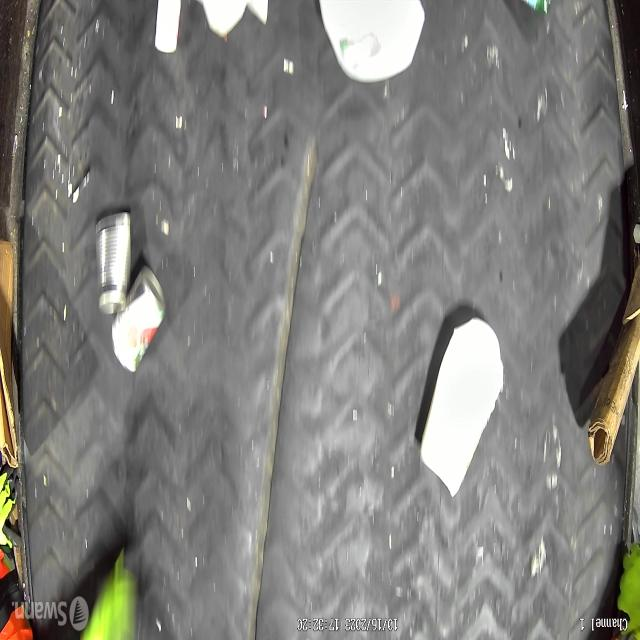can: (110, 266, 172, 377), (90, 215, 135, 316)
milk_jug: (314, 0, 428, 86)
